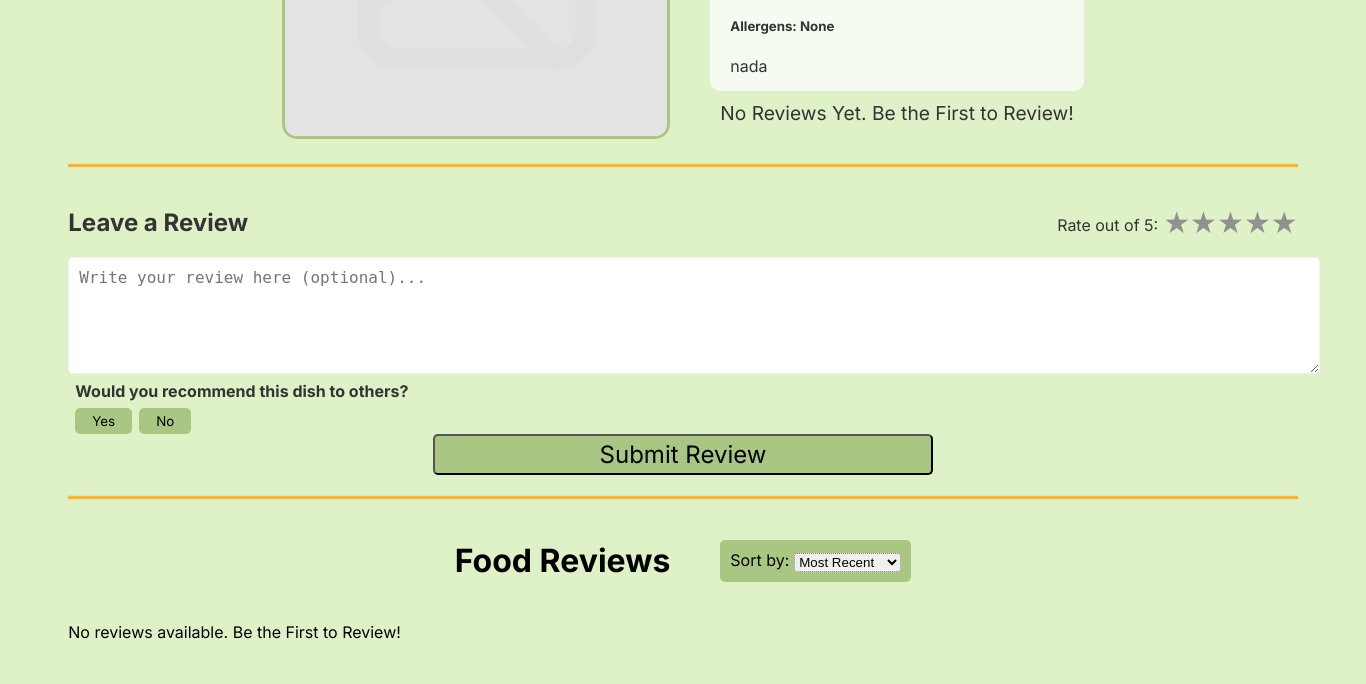
it: reviewForm functions as expected › expect review submission success, no review text
(page scrolled)
Click the button with aria-label "YesButton" at (104, 421), box 75,408 -> 132,434
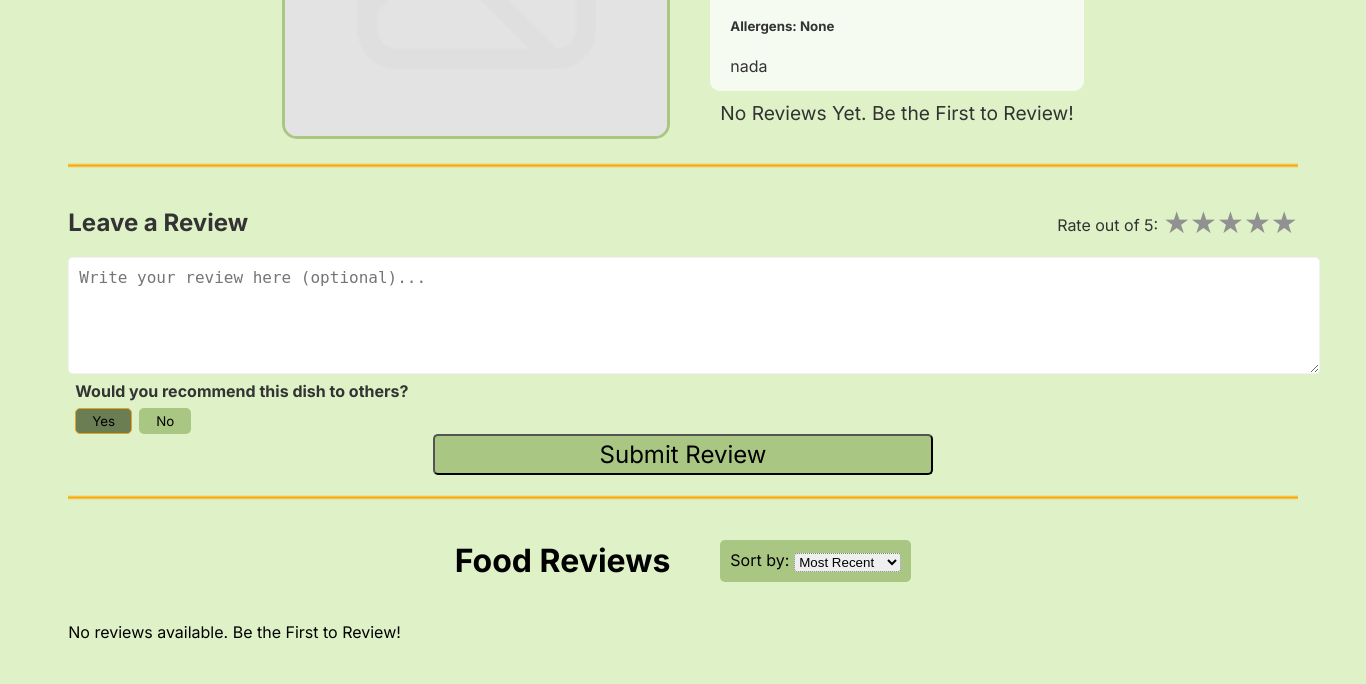
Click the text named "reviewFormStars" at (1257, 222), box 1244,204 -> 1271,240
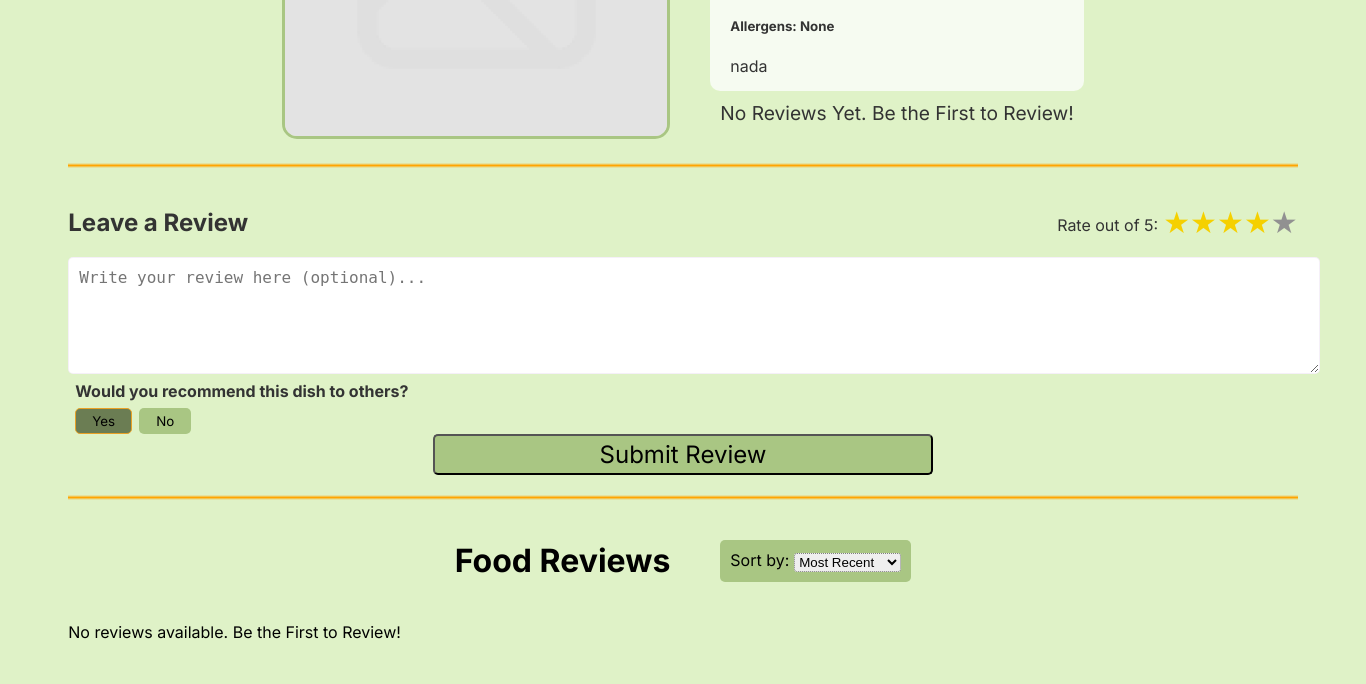
Click the button with aria-label "SubmitButton" at (683, 454), box 433,434 -> 933,475
(page scrolled)
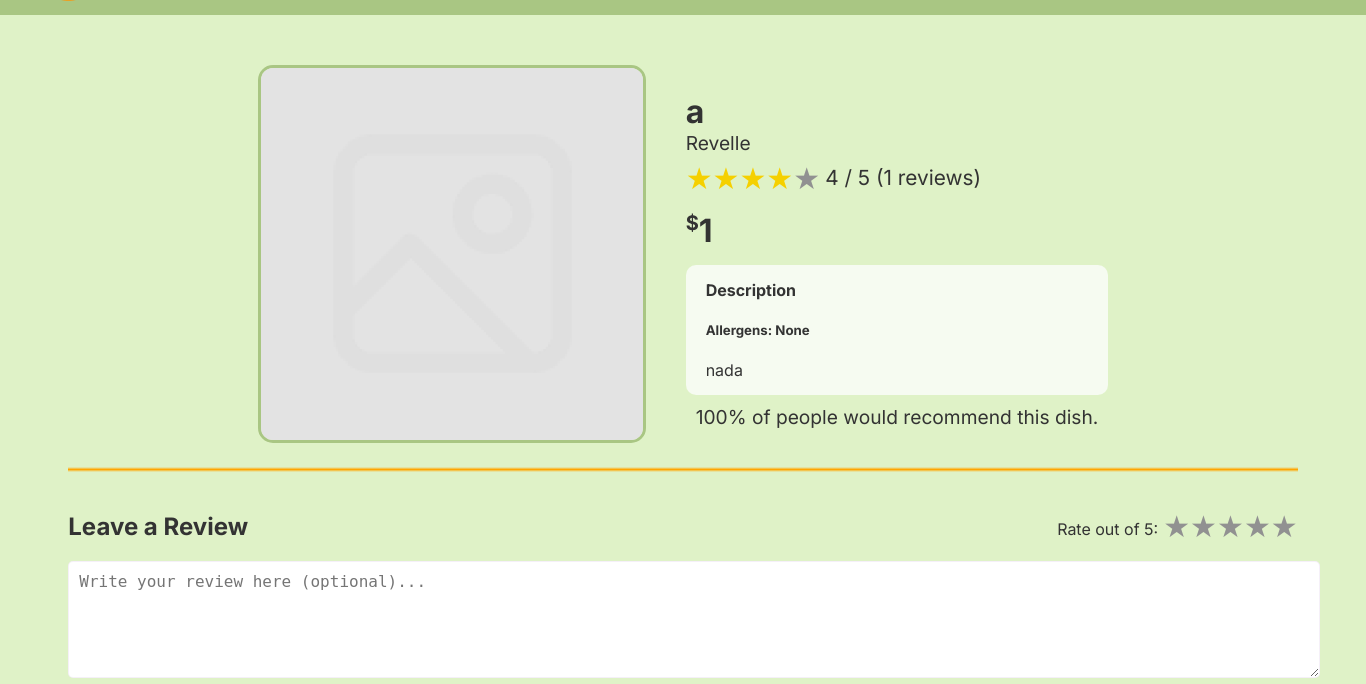
Expected: the text named "ratingStarFilled" reads "★★★★", 686,160 -> 793,196
Now the text "100% of people would recommend this dish." is shown, box 696,405 -> 1098,429
Now the text "4 / 5 (1 reviews)" is shown, box 820,165 -> 981,190
